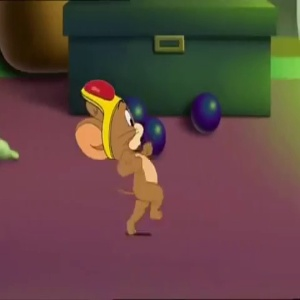Jerry: (65, 79, 151, 159)
